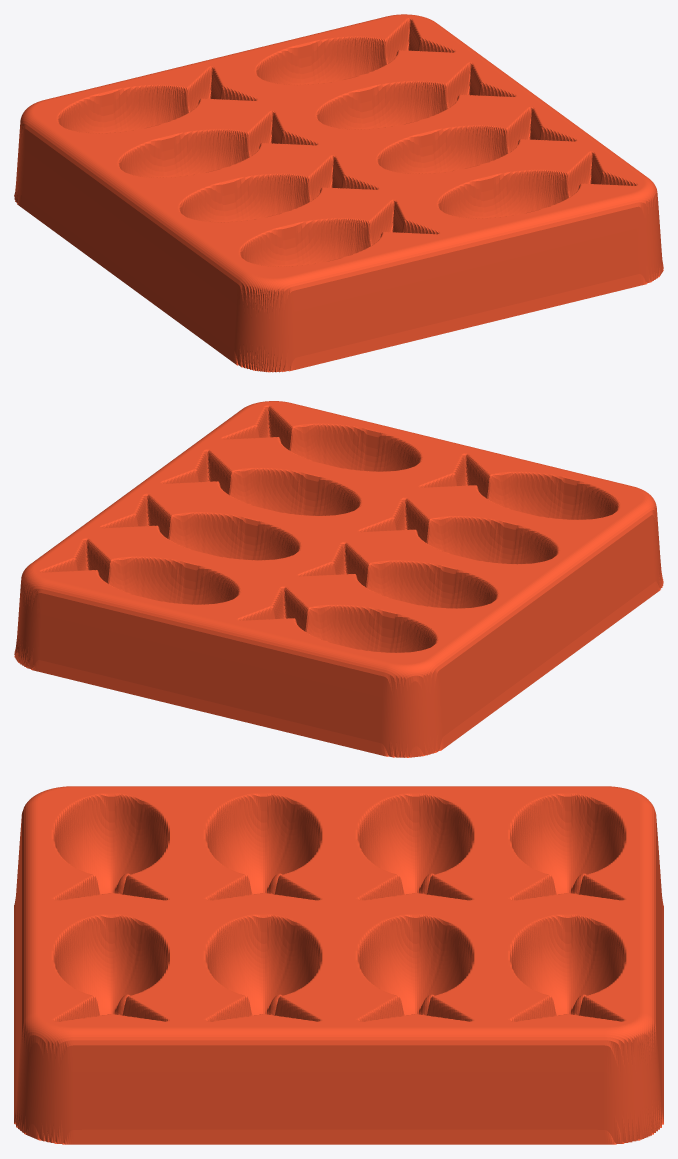
File: mold.glb
The picture shows the model from 3 angles, top to bottom: view 1: azimuth 30°, elevation 25°; view 2: azimuth 150°, elevation 25°; view 3: azimuth 270°, elevation 25°; orthographic projection. The views are drawn at different scales.
Visible parts, largest first — view 1: geometry_0; view 2: geometry_0; view 3: geometry_0.
Part boxes in pixels (<box>): geometry_0: <box>14,14,663,372</box>; geometry_0: <box>14,401,663,757</box>; geometry_0: <box>14,786,663,1144</box>.
Bounding box in the file's own units: 0.0945 × 0.0182 × 0.1.
